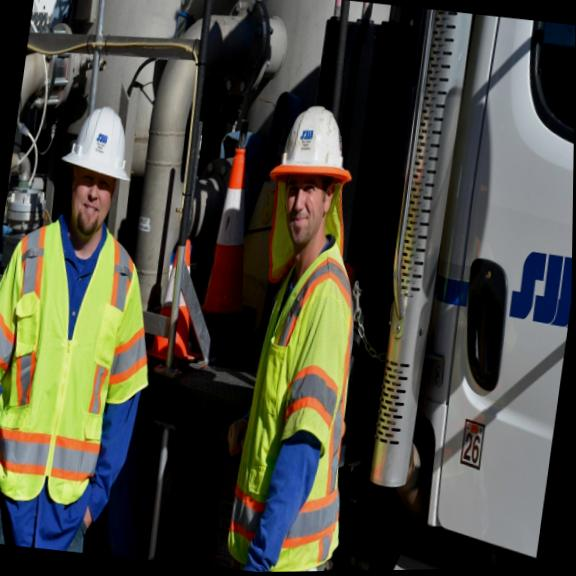safety_vest: (0, 207, 166, 524), (229, 256, 372, 572)
